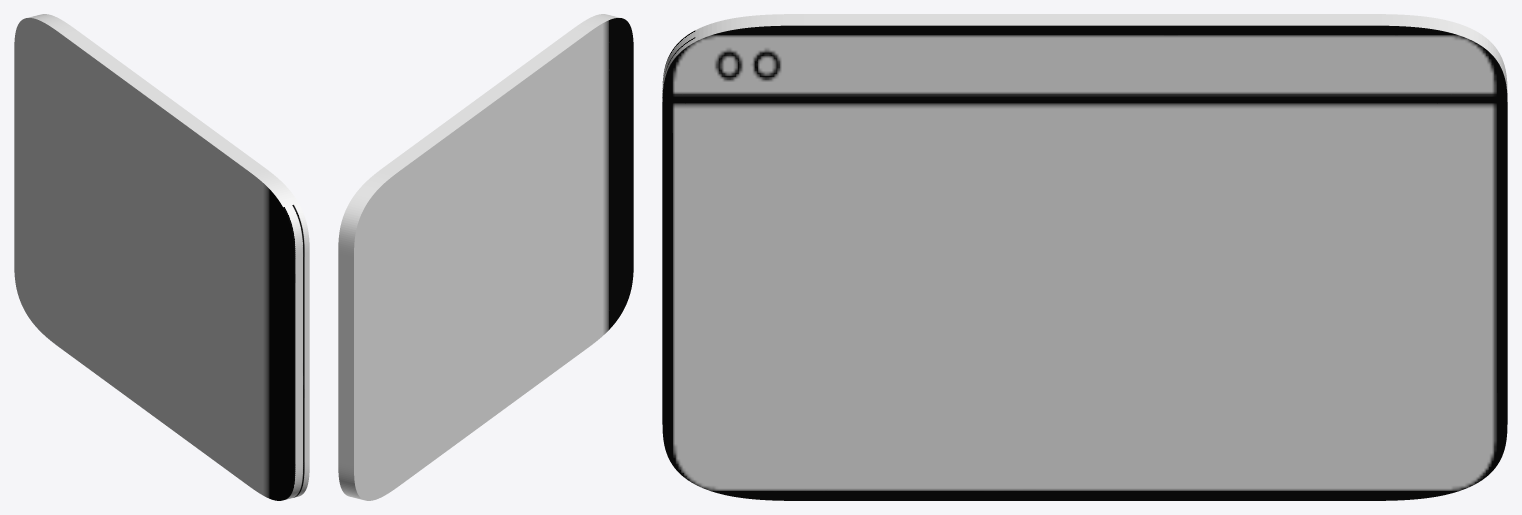
The model's file is popup-old2.gltf.
3 renders of one model, left to right at view 1: azimuth 30°, elevation 25°; view 2: azimuth 150°, elevation 25°; view 3: azimuth 270°, elevation 25°, orthographic. The views are drawn at different scales.
Parts seen in each view (by area): view 1: Cube.112; view 2: Cube.112; view 3: Cube.112.
Part boxes in pixels (box(x1,y1,x2,y2)): Cube.112: box(14, 14, 309, 500); Cube.112: box(338, 14, 633, 500); Cube.112: box(662, 14, 1507, 500).
Bounding box in the file's own units: 0.2956 × 5.65 × 9.11.
Materials: 1 (1 with a texture image).
